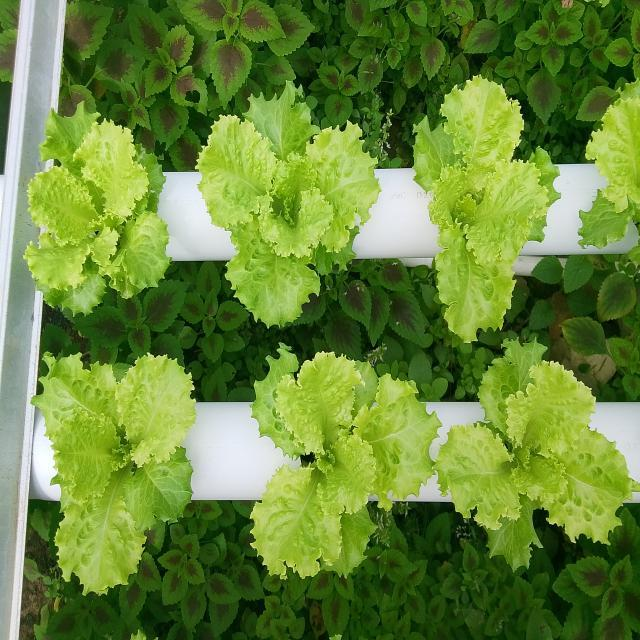Baby: (435, 340, 640, 638), (251, 344, 440, 578), (31, 353, 195, 594), (414, 76, 560, 341), (200, 84, 380, 297), (24, 102, 170, 313)
